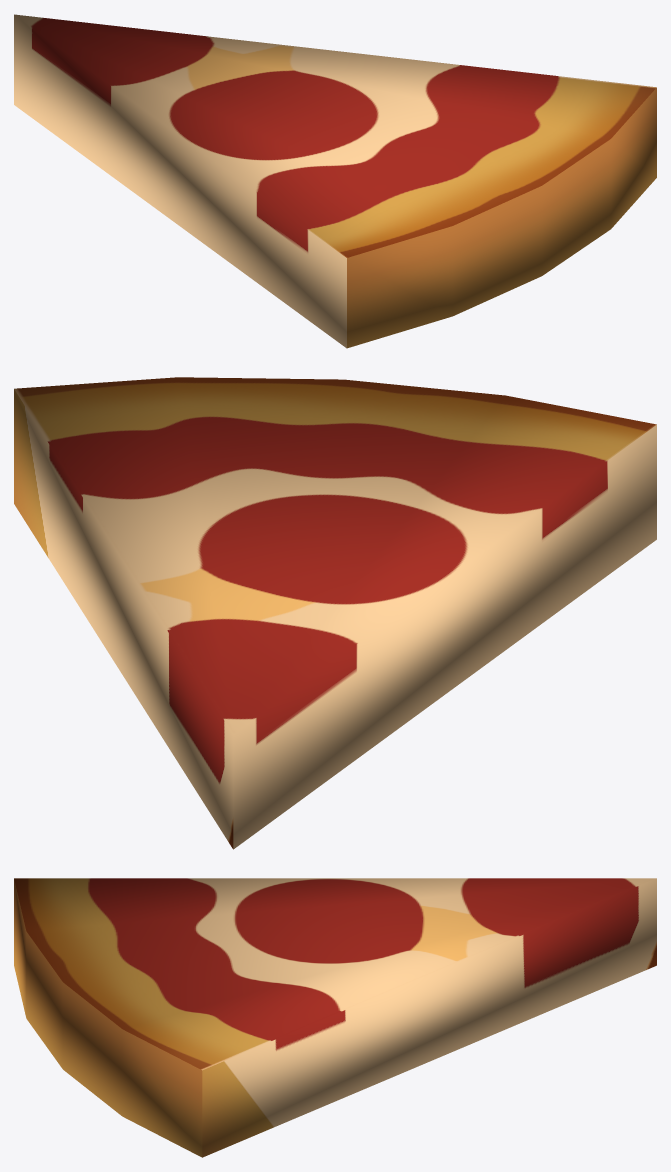
File: food_05.fbx
3 renders of one model, top to bottom at view 1: azimuth 30°, elevation 25°; view 2: azimuth 150°, elevation 25°; view 3: azimuth 270°, elevation 25°, orthographic. The views are drawn at different scales.
Visible parts, largest first — view 1: food_05; view 2: food_05; view 3: food_05.
Part boxes in pixels (x1,y1,x2,y2): food_05: [14, 14, 656, 348]; food_05: [14, 377, 656, 849]; food_05: [14, 878, 656, 1157].
Size of the model in its own units: 1.89 by 0.4 by 2.67.
